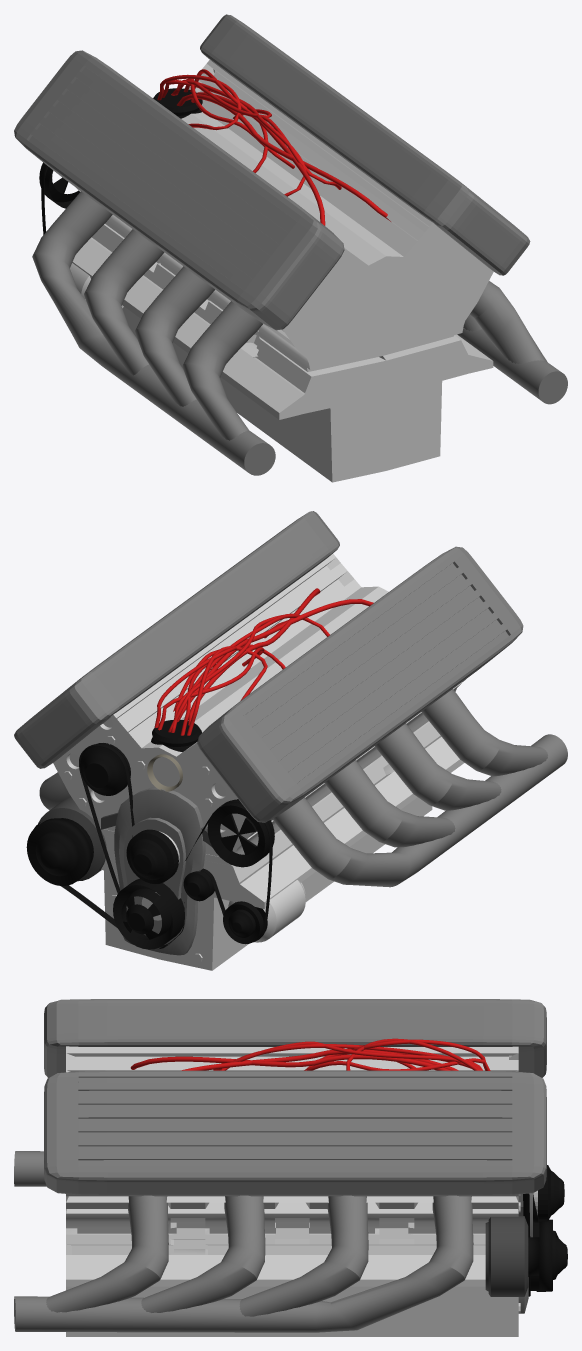
Rendered from Motor.obj.
3 views of the same model, one above another, from view 1: azimuth 30°, elevation 25°; view 2: azimuth 150°, elevation 25°; view 3: azimuth 270°, elevation 25° (orthographic). The views are drawn at different scales.
Parts seen in each view (by area): view 1: Cylinder.009_Mesh.004, Cube.002_Cube.006, Cylinder.008_Cylinder.011, Cube.003_Cube.007, Cylinder.037_Cylinder.036, Cylinder.016_Cylinder.021, Cylinder, Cylinder.010_Cylinder.015; view 2: Cube.002_Cube.006, Cylinder.009_Mesh.004, Cylinder.008_Cylinder.011, Cube.003_Cube.007, Cube_Cube.005, Cylinder.016_Cylinder.021, Cylinder.002, Cylinder.012_Cylinder.025, Cylinder, Cylinder.003, Cylinder.004, Curve.001_Mesh (+6 smaller); view 3: Cube.003_Cube.007, Cylinder.009_Mesh.004, Cylinder.037_Cylinder.036, Cube.002_Cube.006, Cylinder.016_Cylinder.021, Cylinder.001, Cylinder.012_Cylinder.025, Cylinder.008_Cylinder.011, Cylinder.003.
Boxes of the visible parts, box(x1,y1,x2,y2) form: Cylinder.009_Mesh.004: box(72, 60, 493, 482); Cube.002_Cube.006: box(14, 50, 344, 330); Cylinder.008_Cylinder.011: box(32, 191, 275, 475); Cube.003_Cube.007: box(200, 14, 530, 275); Cylinder.037_Cylinder.036: box(457, 281, 567, 404); Cylinder.016_Cylinder.021: box(157, 69, 390, 225); Cylinder: box(39, 162, 79, 208); Cylinder.010_Cylinder.015: box(153, 88, 202, 118); Cube.002_Cube.006: box(197, 546, 523, 822); Cylinder.009_Mesh.004: box(53, 553, 465, 970); Cylinder.008_Cylinder.011: box(273, 689, 567, 887); Cube.003_Cube.007: box(14, 511, 339, 768); Cube_Cube.005: box(114, 787, 205, 955); Cylinder.016_Cylinder.021: box(154, 588, 373, 735); Cylinder.002: box(113, 878, 184, 949); Cylinder.012_Cylinder.025: box(26, 818, 93, 885); Cylinder: box(207, 799, 274, 867); Cylinder.003: box(126, 829, 178, 883); Cylinder.004: box(80, 743, 130, 795); Curve.001_Mesh: box(79, 744, 272, 947); Cube.003_Cube.007: box(44, 1070, 546, 1195); Cylinder.009_Mesh.004: box(66, 1046, 518, 1336); Cylinder.037_Cylinder.036: box(14, 1195, 473, 1332); Cube.002_Cube.006: box(44, 999, 546, 1077); Cylinder.016_Cylinder.021: box(130, 1038, 490, 1070); Cylinder.001: box(485, 1216, 528, 1296); Cylinder.012_Cylinder.025: box(528, 1221, 567, 1291); Cylinder.008_Cylinder.011: box(14, 1151, 46, 1186); Cylinder.003: box(538, 1165, 564, 1221).
Bounding box in the file's own units: 7.75 × 6.17 × 11.23.
